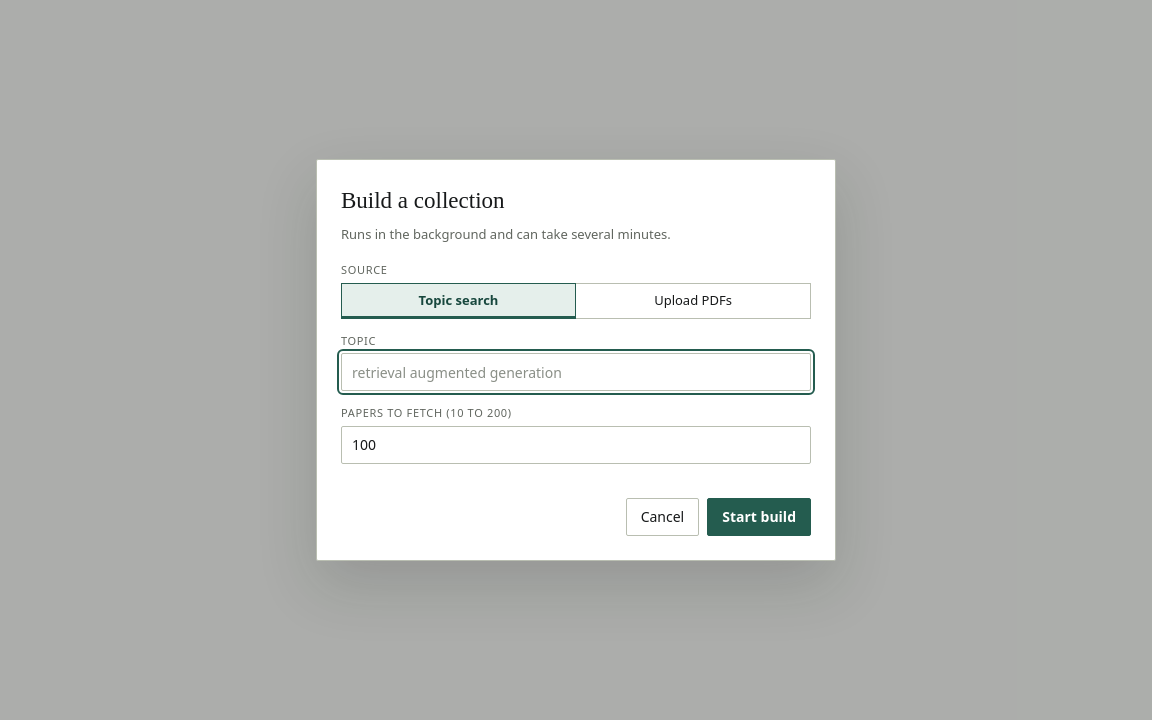
build dialog › renders a failed job and does not select anything
This screenshot has width=1152, height=720.
Type "graph neural networks" into the field labelled "Topic" at {"x": 576, "y": 372}, box left=341, top=353, right=811, bottom=391
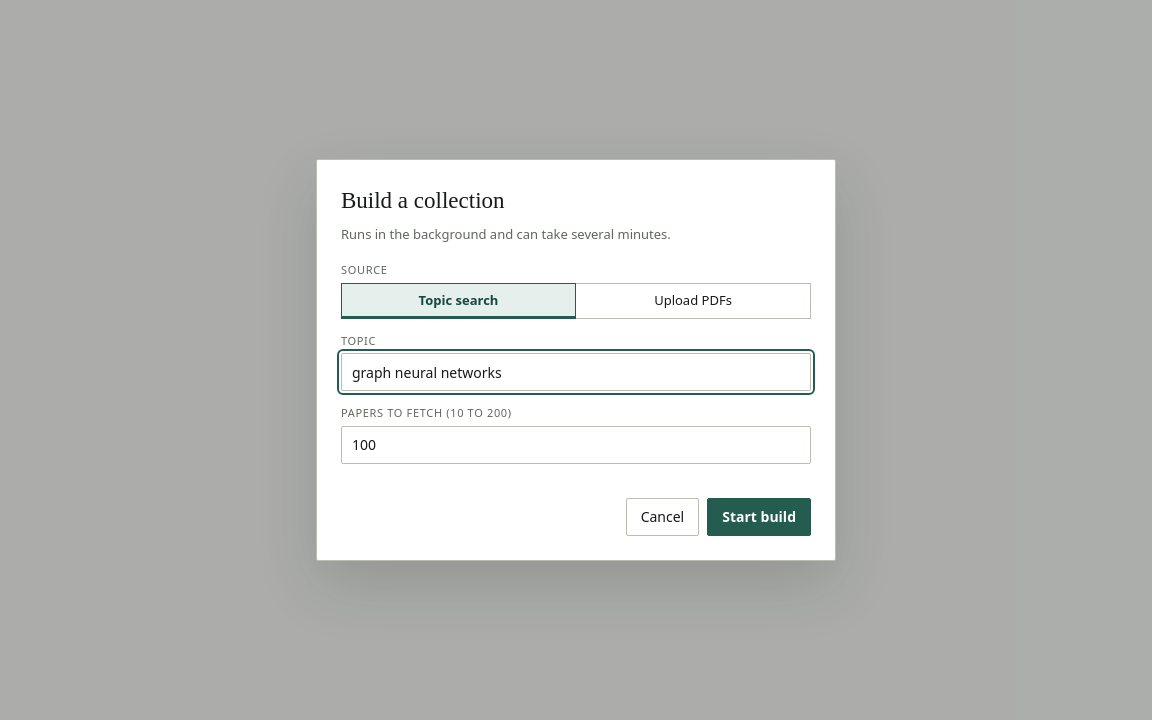
Click the button "Start build" at {"x": 759, "y": 517}, box left=707, top=498, right=811, bottom=536
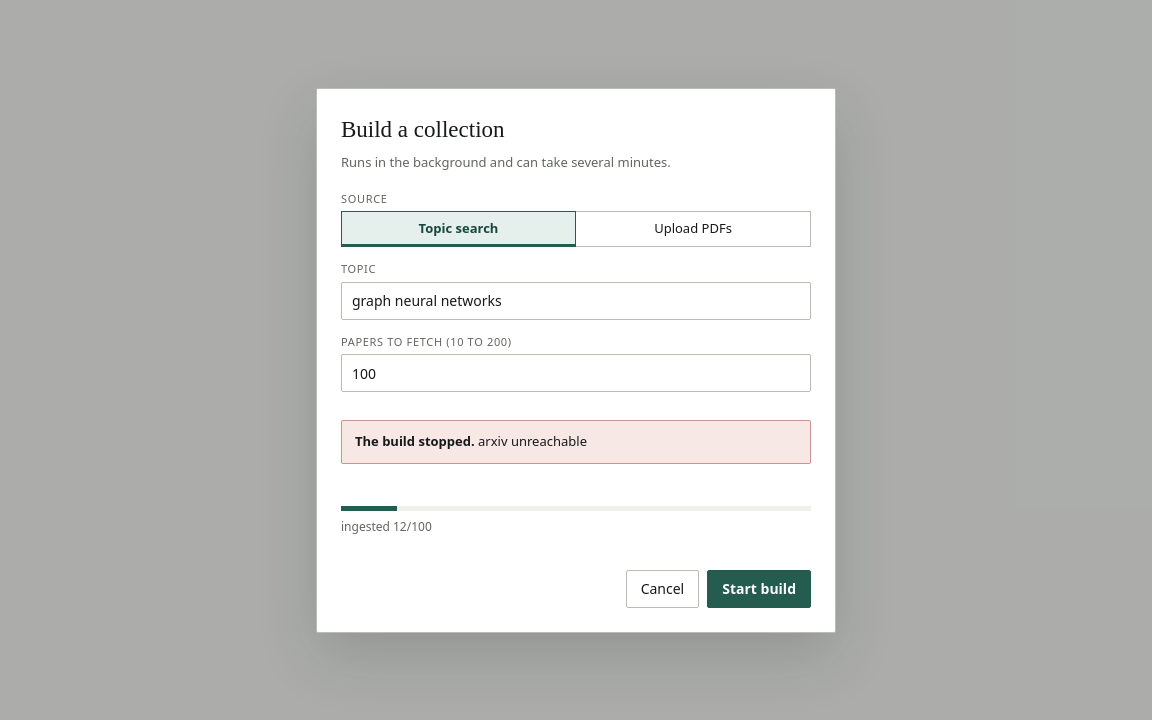
Expected: the text "The build stopped. arxiv unreachable" is shown, left=355, top=432, right=587, bottom=450
